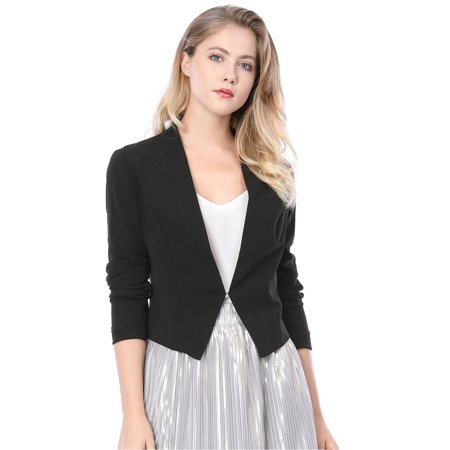F_W_suit jacket: (107, 131, 311, 362)
